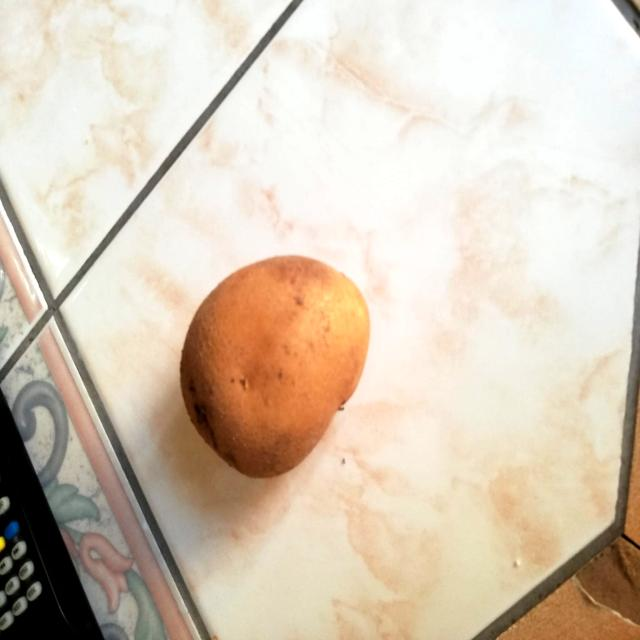potato: (177, 247, 375, 484)
